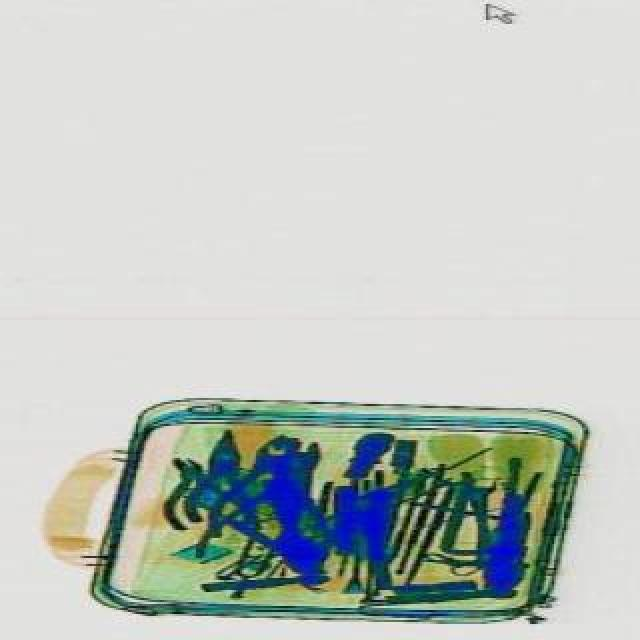wrench: (190, 446, 338, 566), (200, 424, 320, 550), (176, 428, 260, 532), (148, 448, 242, 534)
